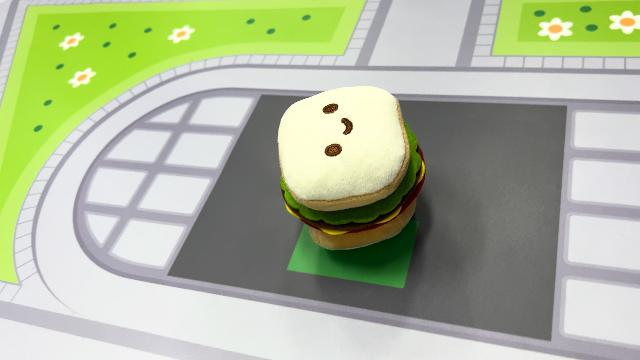sandwich: (274, 82, 428, 252)
